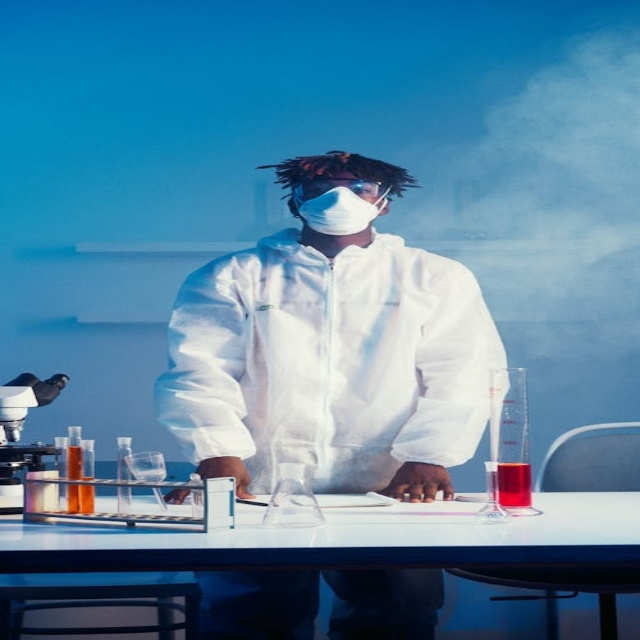Gafas: (293, 178, 389, 204)
Mascara: (296, 186, 385, 235)
Sin_guantes: (175, 457, 257, 502), (378, 461, 455, 502)
